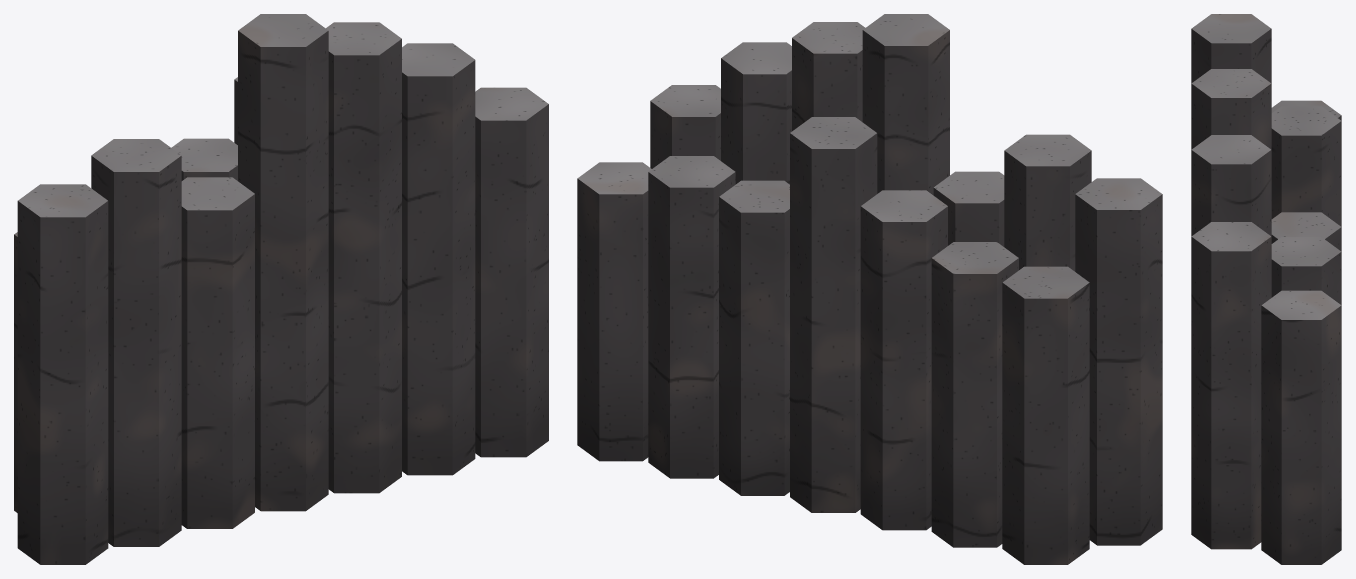
File: basalt_a.glb
The picture shows the model from 3 angles, left to right: view 1: azimuth 30°, elevation 25°; view 2: azimuth 150°, elevation 25°; view 3: azimuth 270°, elevation 25°; orthographic projection. The views are drawn at different scales.
Parts seen in each view (by area): view 1: Basalt; view 2: Basalt; view 3: Basalt.
Part boxes in pixels (<box>): Basalt: <box>14,14,548,564</box>; Basalt: <box>577,14,1162,564</box>; Basalt: <box>1191,14,1341,564</box>.
Size of the model in its own units: 3.34 by 2.72 by 0.9.
Materials: 1 (1 with a texture image).
